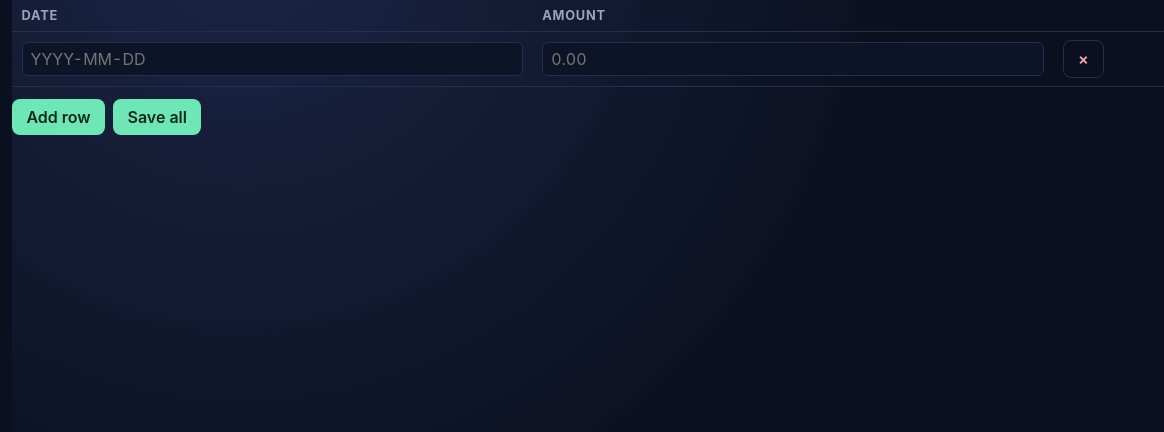
Scenario: BulkGrid › blocks saving while a cell is invalid
Click the button "Save all".
click(157, 117)  # box [113, 99, 201, 135]
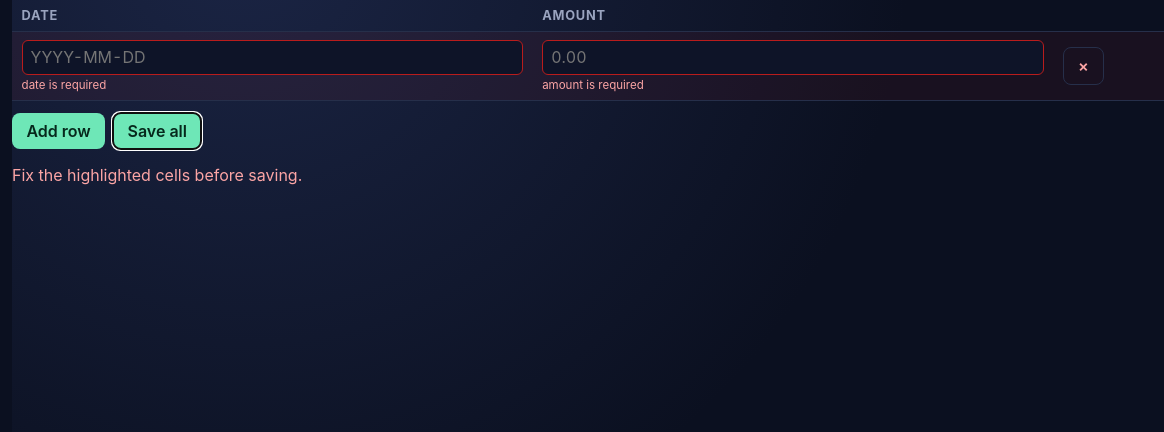
Expected: the text "Fix the highlighted cells before saving." is shown, [12, 165, 302, 185]
Expected: the text "date is required" is shown, [22, 78, 106, 92]
